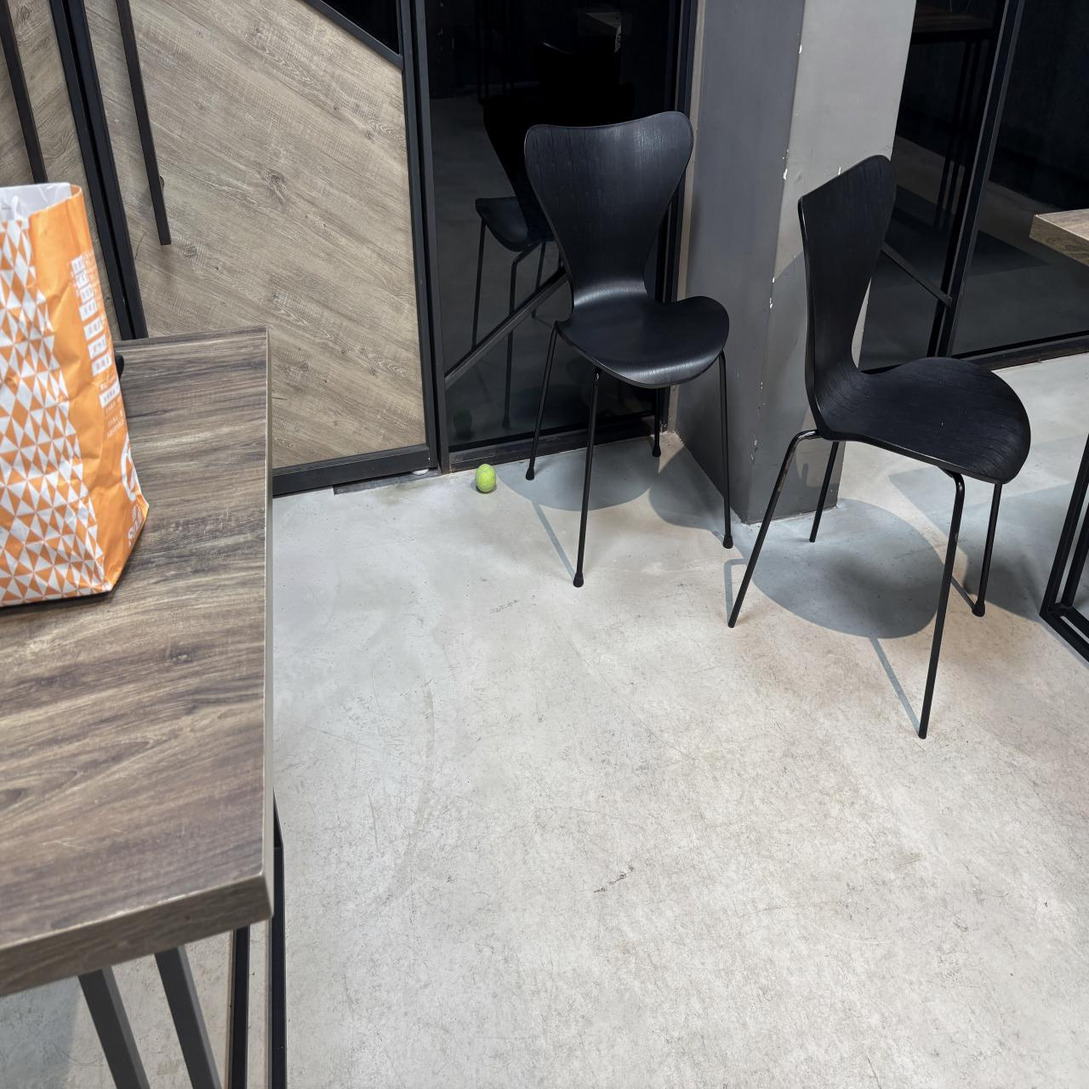tennisball: (476, 464, 496, 493)
